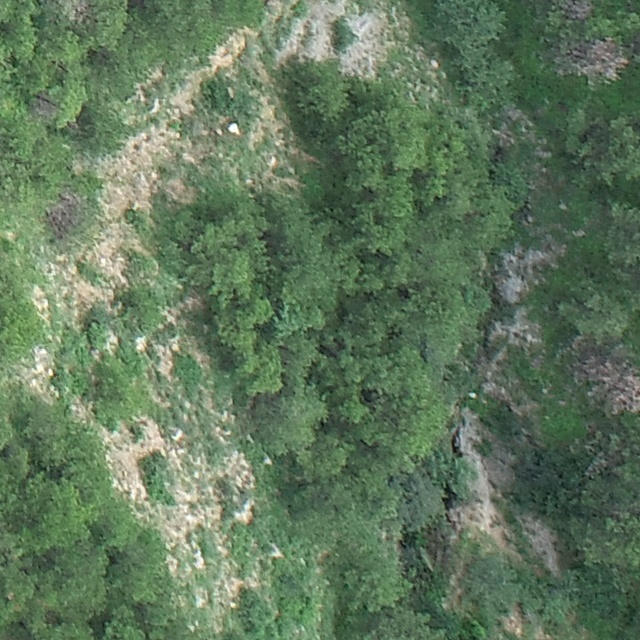unhealthy: (580, 355, 640, 417), (574, 38, 629, 80), (41, 194, 81, 231), (557, 0, 594, 22), (61, 0, 94, 24), (34, 93, 63, 120)
